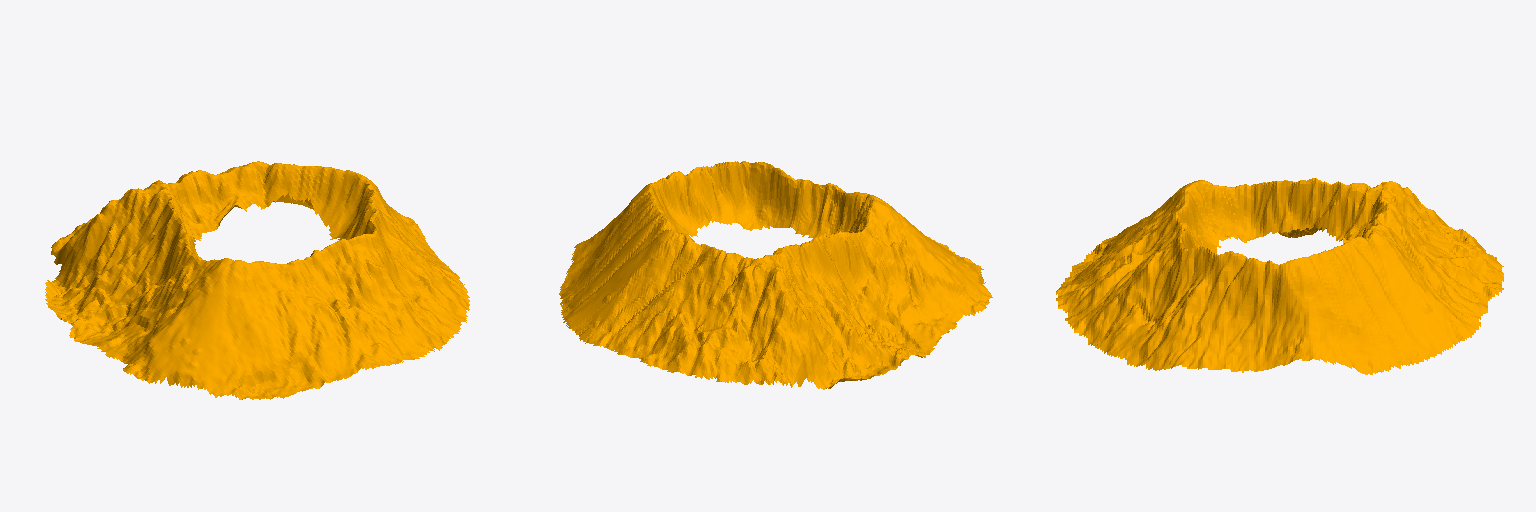
Rendered from hole.obj.
3 renders of one model, left to right at view 1: azimuth 30°, elevation 25°; view 2: azimuth 150°, elevation 25°; view 3: azimuth 270°, elevation 25°, orthographic.
Visible parts, largest first — view 1: uploads_files_[number redacted]_landscape_mesh_LOD2; view 2: uploads_files_[number redacted]_landscape_mesh_LOD2; view 3: uploads_files_[number redacted]_landscape_mesh_LOD2.
Part boxes in pixels (bbox=[...]): uploads_files_[number redacted]_landscape_mesh_LOD2: bbox=[45, 161, 469, 399]; uploads_files_[number redacted]_landscape_mesh_LOD2: bbox=[559, 161, 992, 389]; uploads_files_[number redacted]_landscape_mesh_LOD2: bbox=[1056, 178, 1503, 374].
Size of the model in its own units: 82.71 by 22.96 by 92.16.